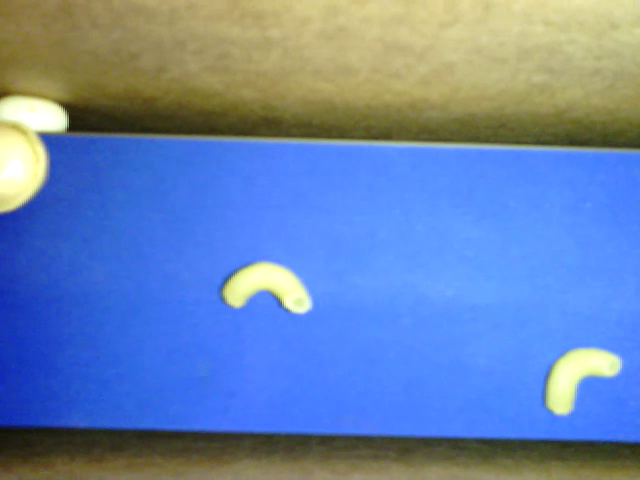elbow: (545, 347, 622, 416), (220, 260, 314, 315)
tortellini: (1, 120, 51, 214)
